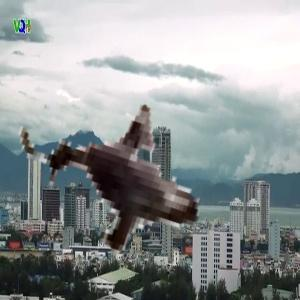drone: (9, 42, 265, 298)
